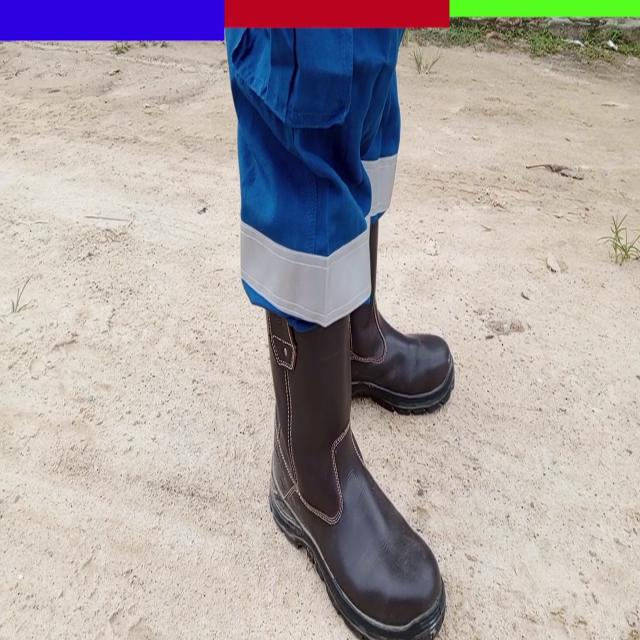Overall Suit: (227, 31, 403, 332)
Safety Boots: (272, 304, 446, 640), (351, 309, 455, 412)
